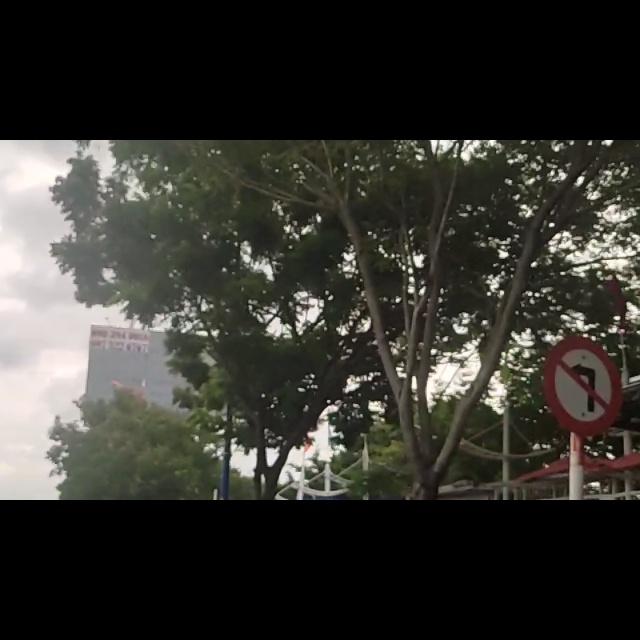bien_cam: (542, 348, 619, 517)
